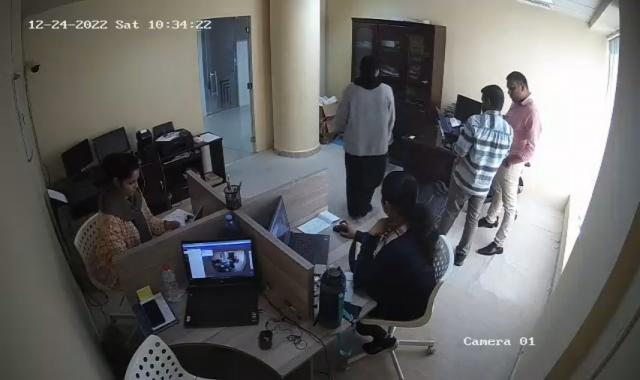no_hairnet: (377, 172, 423, 220), (105, 152, 144, 197), (504, 70, 533, 102), (482, 83, 505, 115), (358, 53, 381, 76)
